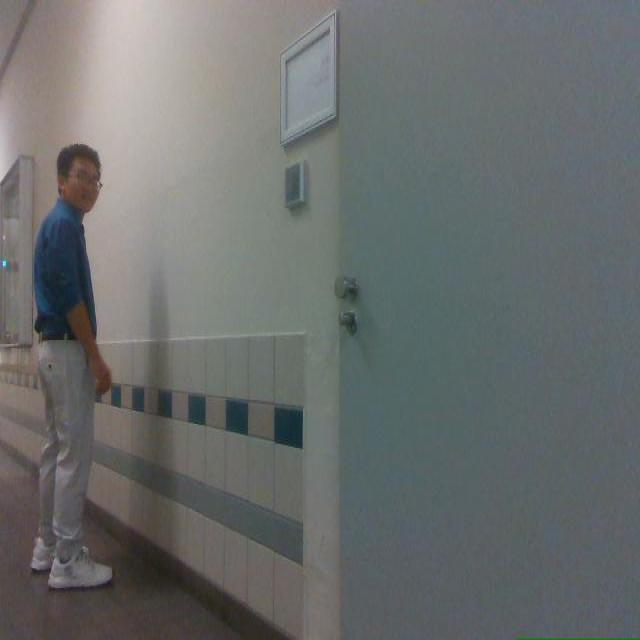humans: (31, 144, 111, 588)
objects: (334, 0, 639, 639)
